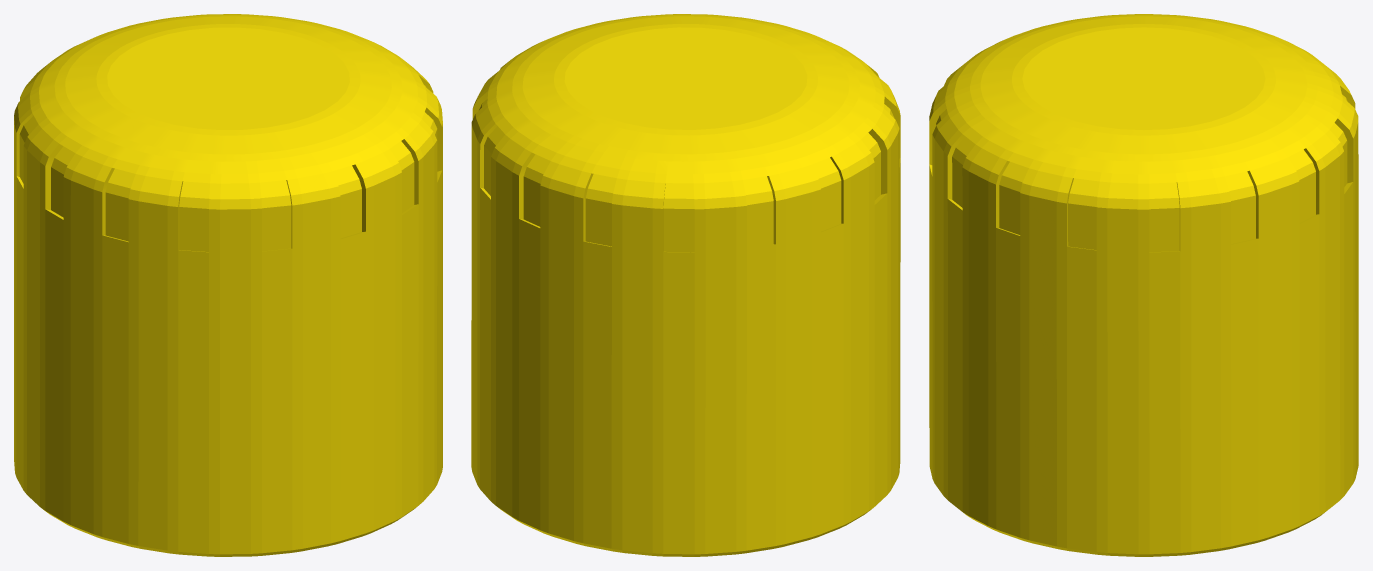
The model's file is Bottomcase.fbx.
3 renders of one model, left to right at view 1: azimuth 30°, elevation 25°; view 2: azimuth 150°, elevation 25°; view 3: azimuth 270°, elevation 25°, orthographic.
Parts seen in each view (by area): view 1: Bottomcase; view 2: Bottomcase; view 3: Bottomcase.
Part boxes in pixels (x1,y1,x2,y2): Bottomcase: (14,14,442,556); Bottomcase: (471,14,900,556); Bottomcase: (929,14,1358,556).
Bounding box in the file's own units: 39.9 × 40.01 × 39.91.
